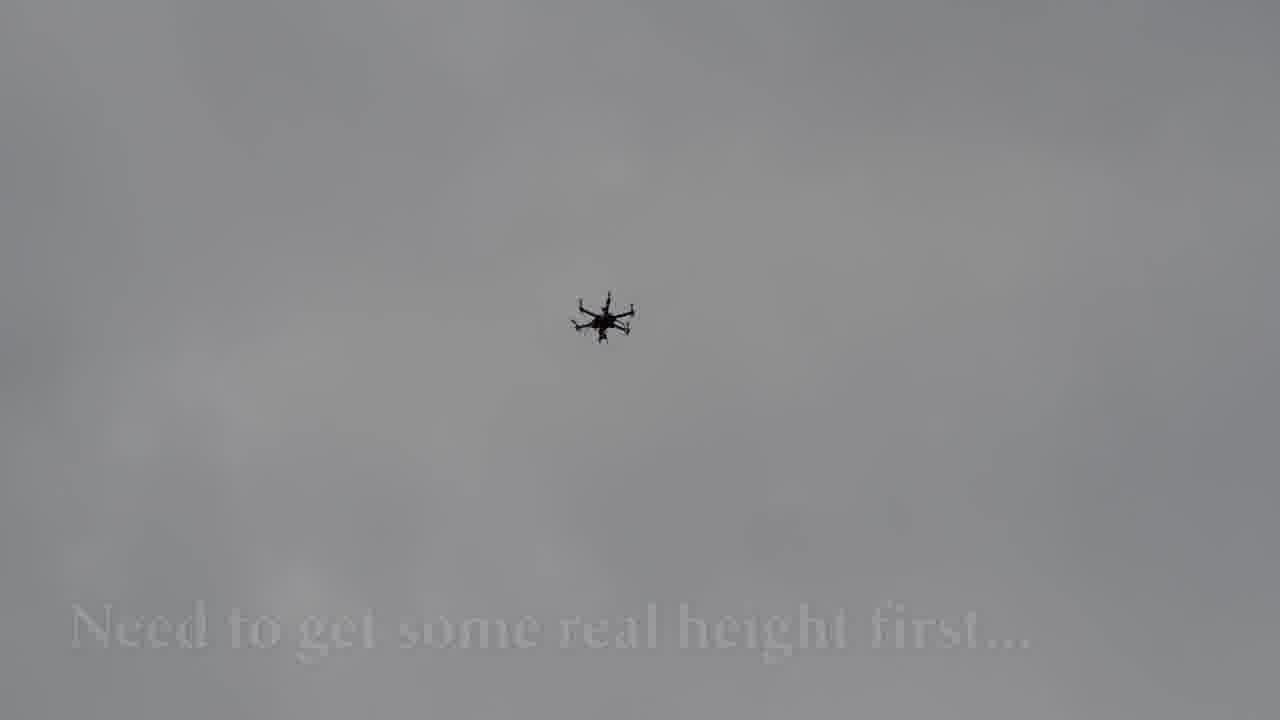drone: (562, 289, 638, 346)
